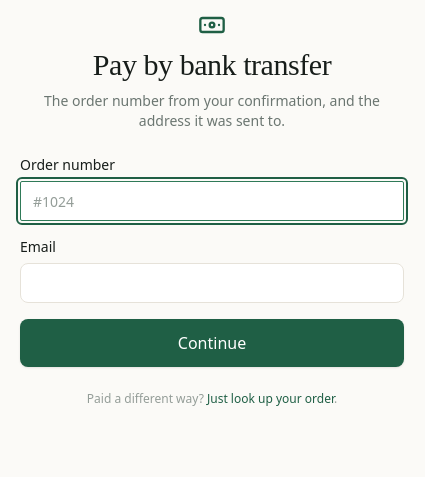
Test: getting to the payment page › repeats the server’s refusal rather than inventing one
Type "#9999" into the field labelled "Order number" at (212, 201), box 20,181 -> 404,221
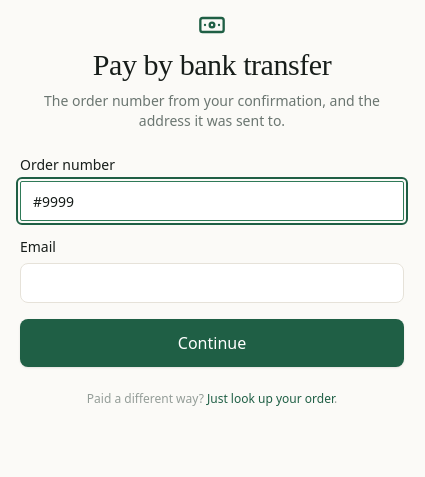
Type "nobody@example.test" into the field labelled "Email" at (212, 283), box 20,263 -> 404,303
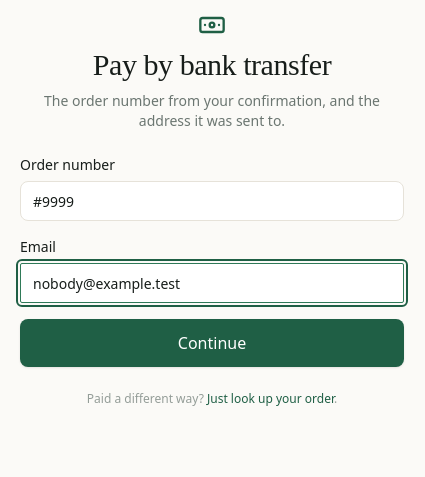
Click the button "Continue" at (212, 343), box 20,319 -> 404,367
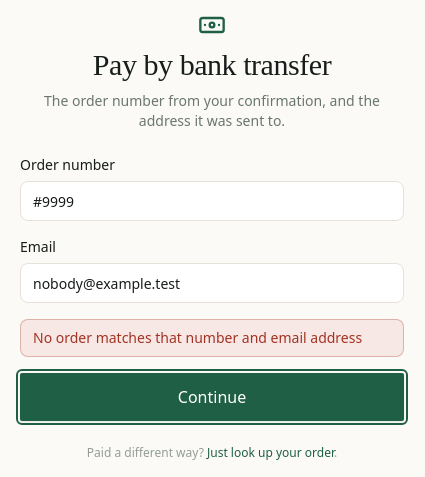
expect the text "No order matches that number and email address" is shown: met, box 20,319 -> 404,357
